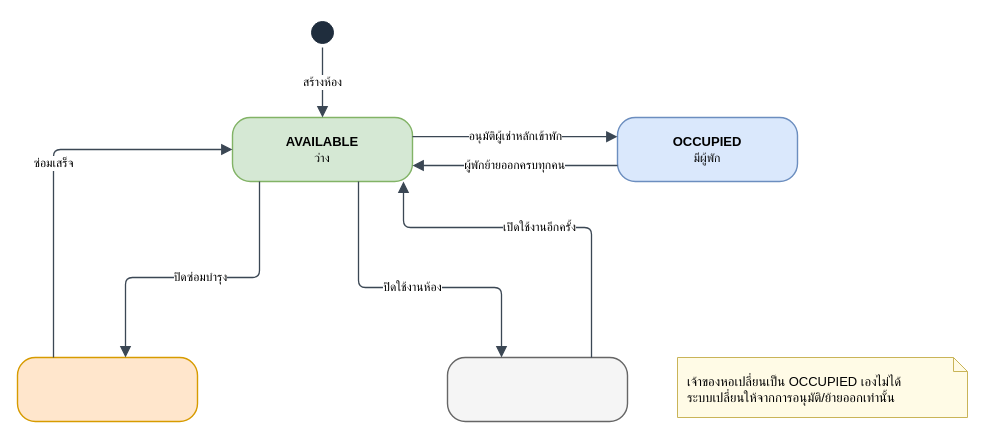
Some shapes in this 986 by 440 pixel diagram are drawn without their labels. Each missing label, with the centre of its shape:
INACTIVE ปิดใช้งาน: point 537,389
MAINTENANCE ซ่อมบำรุง: point 107,389
